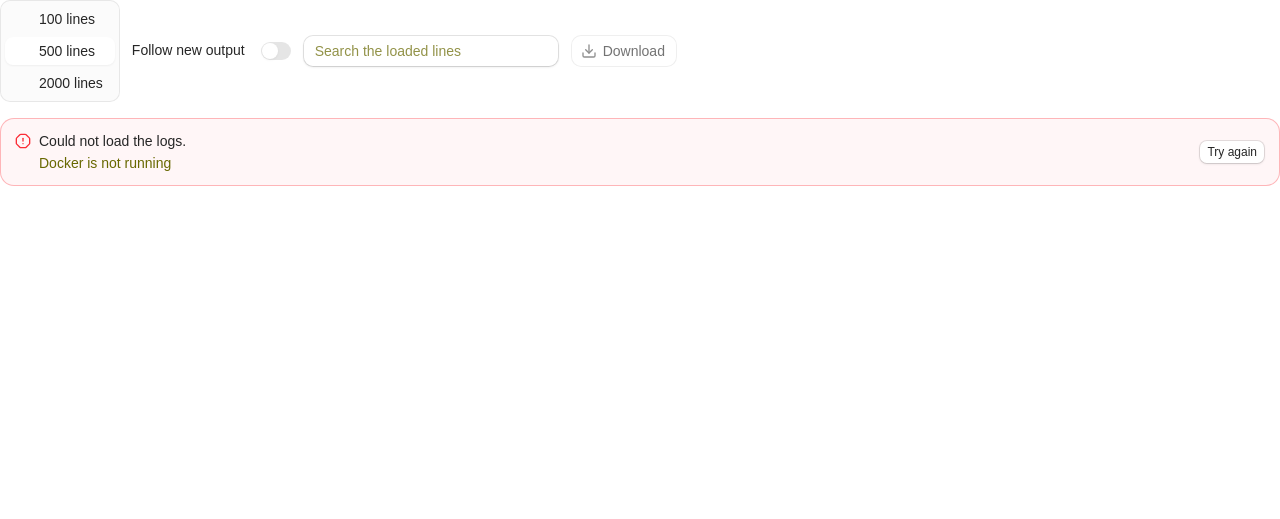
Test case: Logs tab › shows a failed load with a way to try again
expect the text "Docker is not running" is shown: met, box [39, 155, 171, 171]
Click the button "Try again" at (1232, 152), box [1199, 140, 1265, 164]
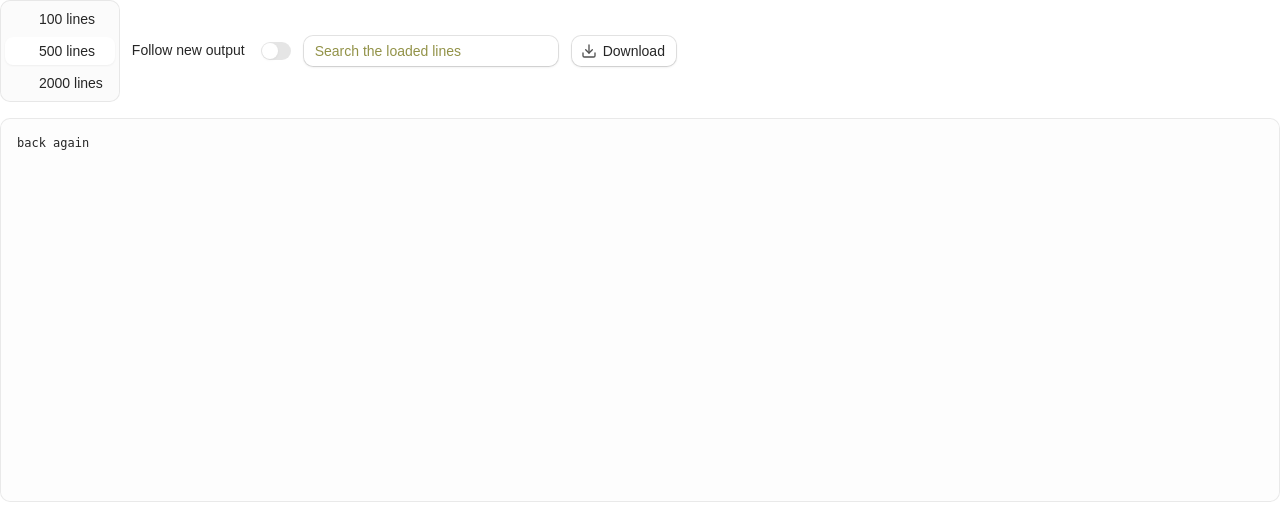
expect the text "back again" is shown: met, box [17, 136, 89, 150]
